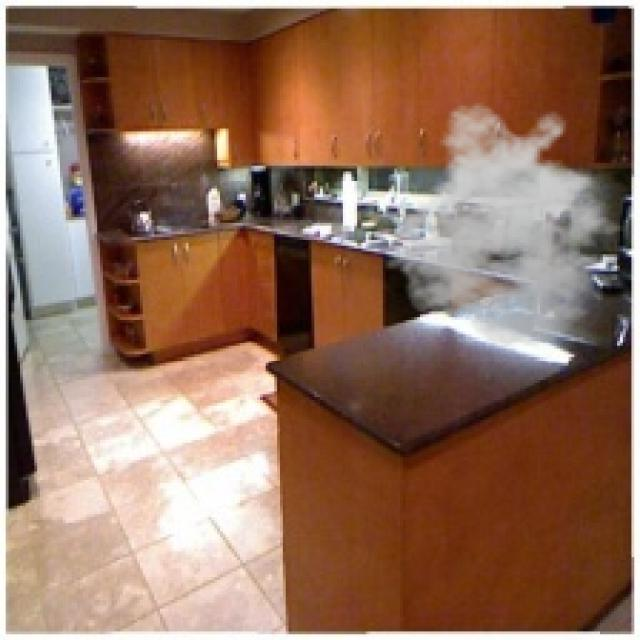smoke: (383, 100, 637, 349)
